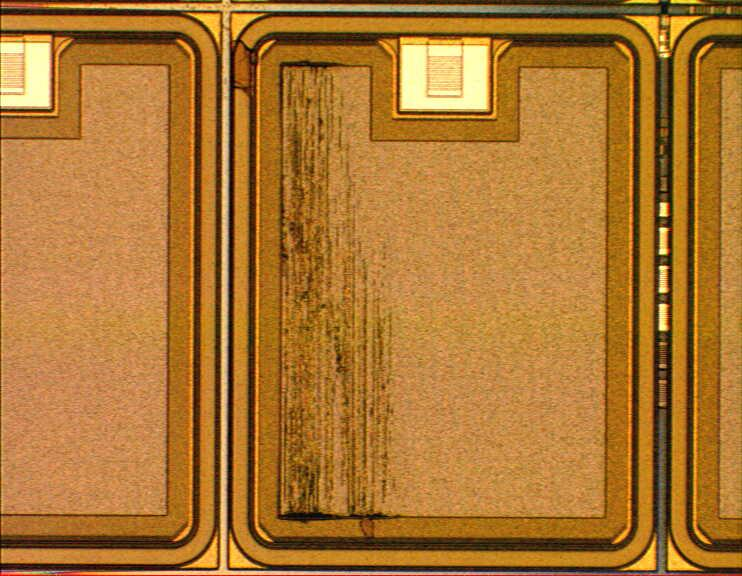SEZ BURNT: (277, 63, 410, 523)
